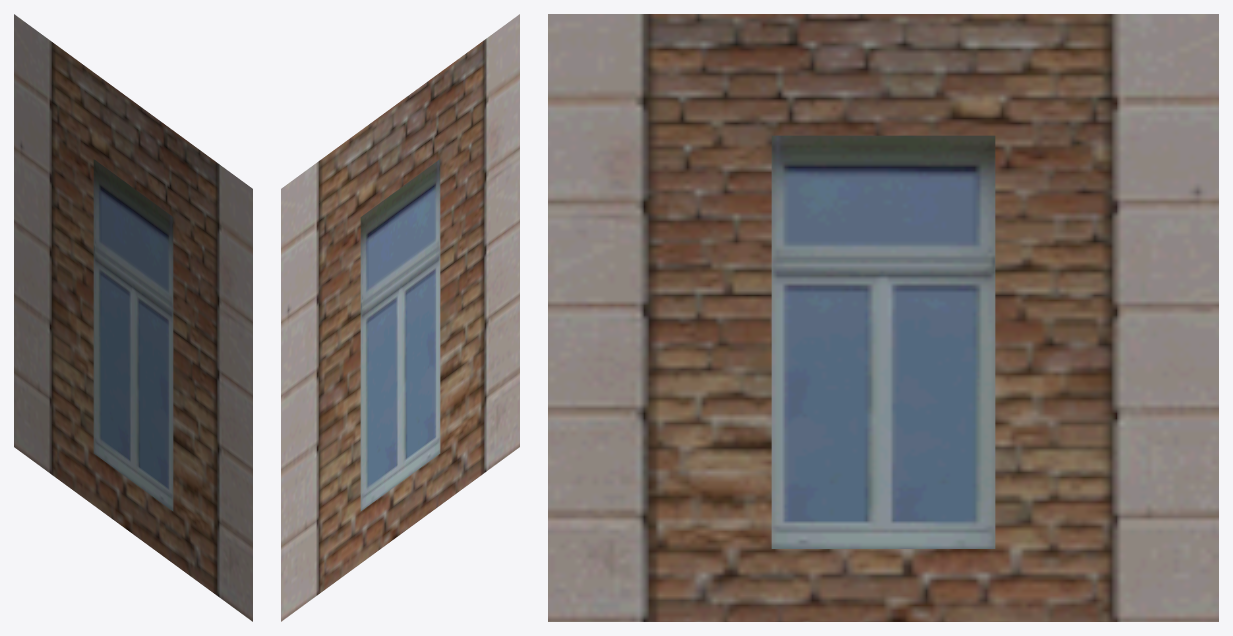
File: Urban_FancyBrickWallWindow1_Model.fbx
3 views of the same model, side by side, from view 1: azimuth 30°, elevation 25°; view 2: azimuth 150°, elevation 25°; view 3: azimuth 270°, elevation 25° (orthographic). The views are drawn at different scales.
Visible parts, largest first — view 1: Urban_FancyBrickWallWindow1_Mesh; view 2: Urban_FancyBrickWallWindow1_Mesh; view 3: Urban_FancyBrickWallWindow1_Mesh.
Boxes of the visible parts, x1,y1,x2,y2 form: Urban_FancyBrickWallWindow1_Mesh: [14, 14, 252, 621]; Urban_FancyBrickWallWindow1_Mesh: [281, 14, 519, 621]; Urban_FancyBrickWallWindow1_Mesh: [548, 14, 1218, 621].
Size of the model in its own units: 0 by 2.1 by 2.1.
